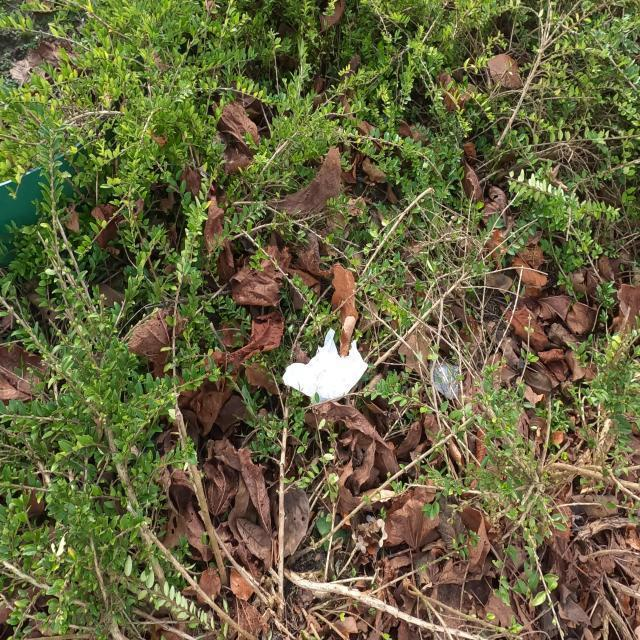Paper: (282, 328, 369, 400)
